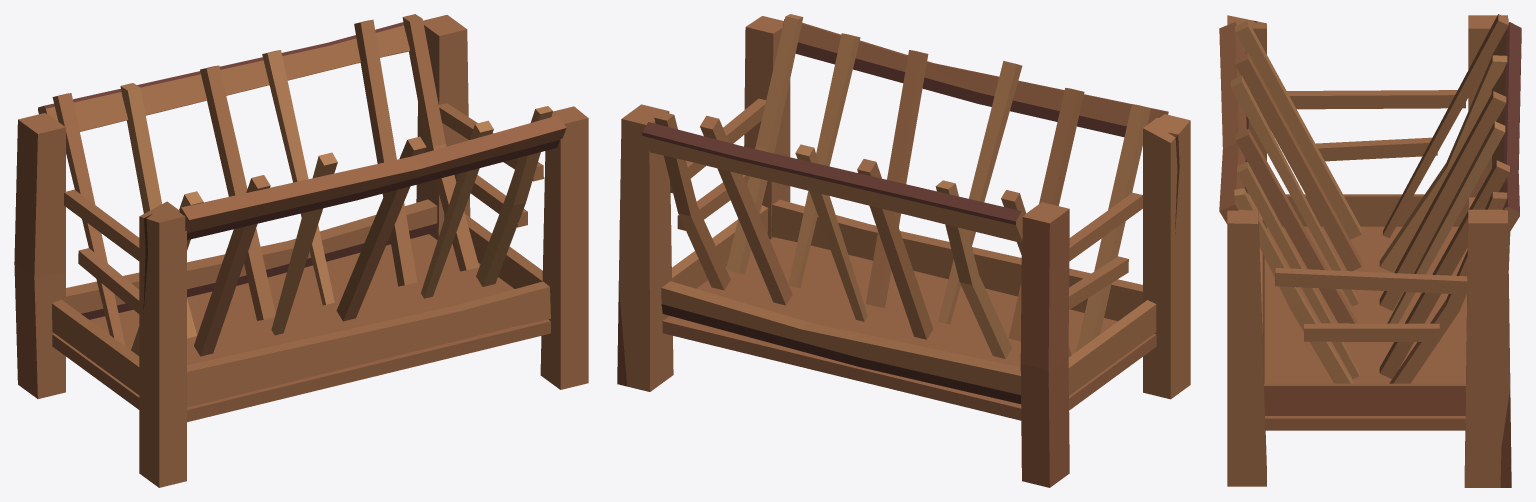
Rendered from magner_empty.fbx.
3 renders of one model, left to right at view 1: azimuth 30°, elevation 25°; view 2: azimuth 150°, elevation 25°; view 3: azimuth 270°, elevation 25°, orthographic.
Parts seen in each view (by area): view 1: manger_empty; view 2: manger_empty; view 3: manger_empty.
Part boxes in pixels (x1=…): manger_empty: x1=14, y1=14, x2=588, y2=487; manger_empty: x1=617, y1=14, x2=1190, y2=487; manger_empty: x1=1219, y1=14, x2=1521, y2=487.
Bounding box in the file's own units: 102 × 64.59 × 62.29.
